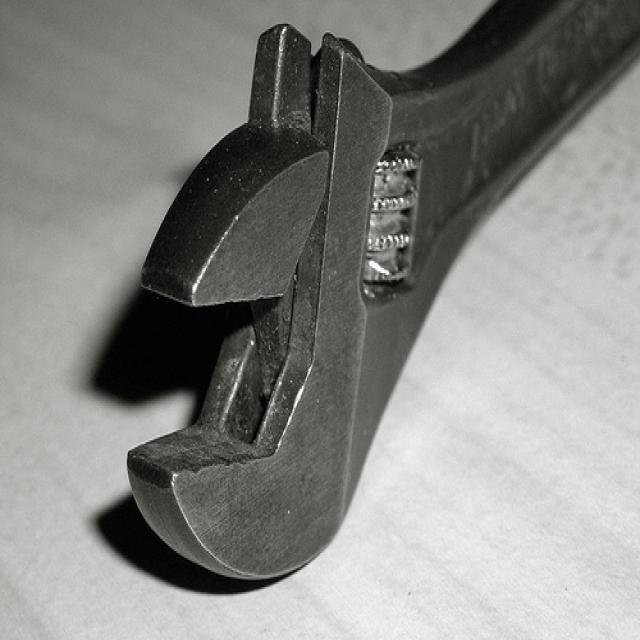wrench: (62, 4, 629, 623)
